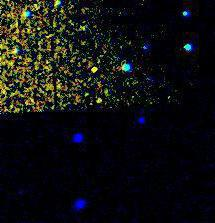star: (80, 53, 110, 83)
